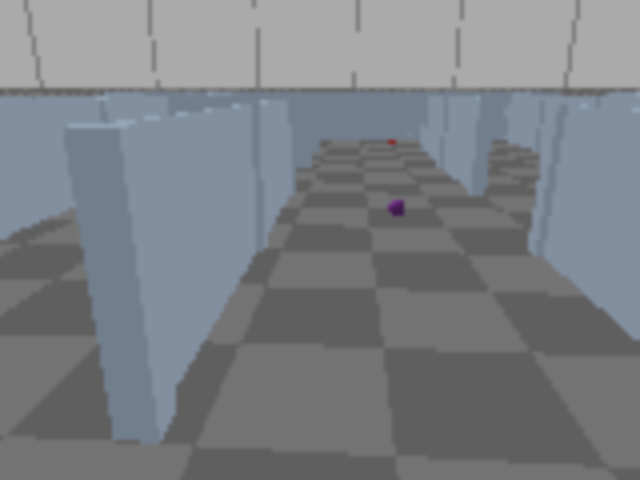puck: (386, 197, 408, 219)
